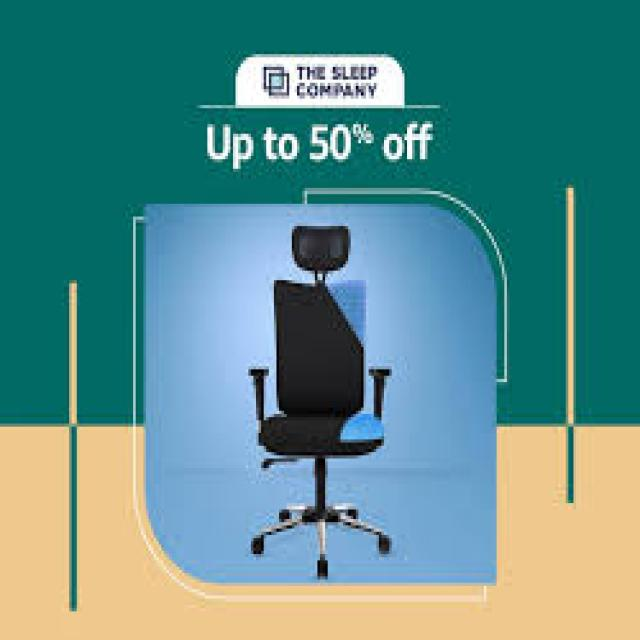chair: (169, 220, 477, 590)
